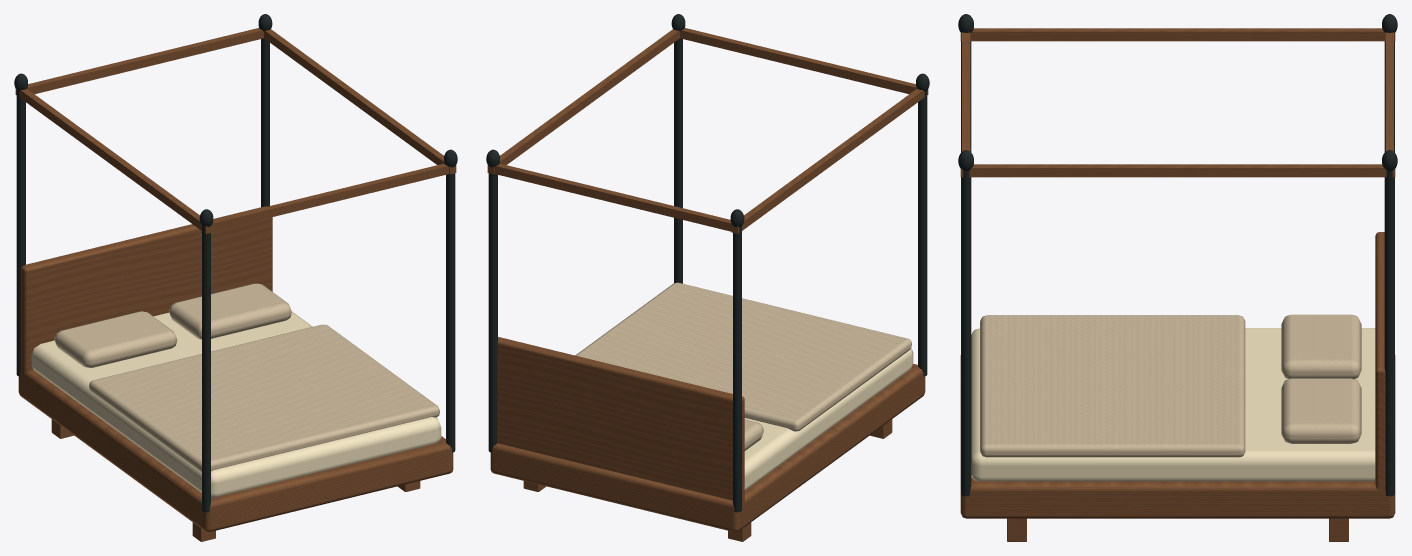
File: canopy-bed-70d0d51f62b1.glb
3 views of the same model, side by side, from view 1: azimuth 30°, elevation 25°; view 2: azimuth 150°, elevation 25°; view 3: azimuth 270°, elevation 25° (orthographic). The views are drawn at different scales.
Parts seen in each view (by area): view 1: surface_walnut, surface_linen, surface_ivory, surface_black; view 2: surface_walnut, surface_linen, surface_black, surface_ivory; view 3: surface_linen, surface_walnut, surface_ivory, surface_black.
Part boxes in pixels (box(x1,y1,x2,y2)): surface_walnut: box(15, 28, 456, 541); surface_linen: box(54, 283, 439, 472); surface_ivory: box(31, 311, 441, 497); surface_black: box(14, 14, 457, 512); surface_walnut: box(487, 28, 928, 541); surface_linen: box(575, 282, 911, 450); surface_black: box(486, 14, 929, 512); surface_ivory: box(744, 347, 913, 490); surface_linen: box(980, 314, 1361, 457); surface_walnut: box(960, 28, 1395, 541); surface_ivory: box(971, 328, 1375, 481); surface_black: box(958, 14, 1397, 496).
Size of the model in its own units: 1.56 by 2.03 by 2.03.
4 materials, 2 textured.
